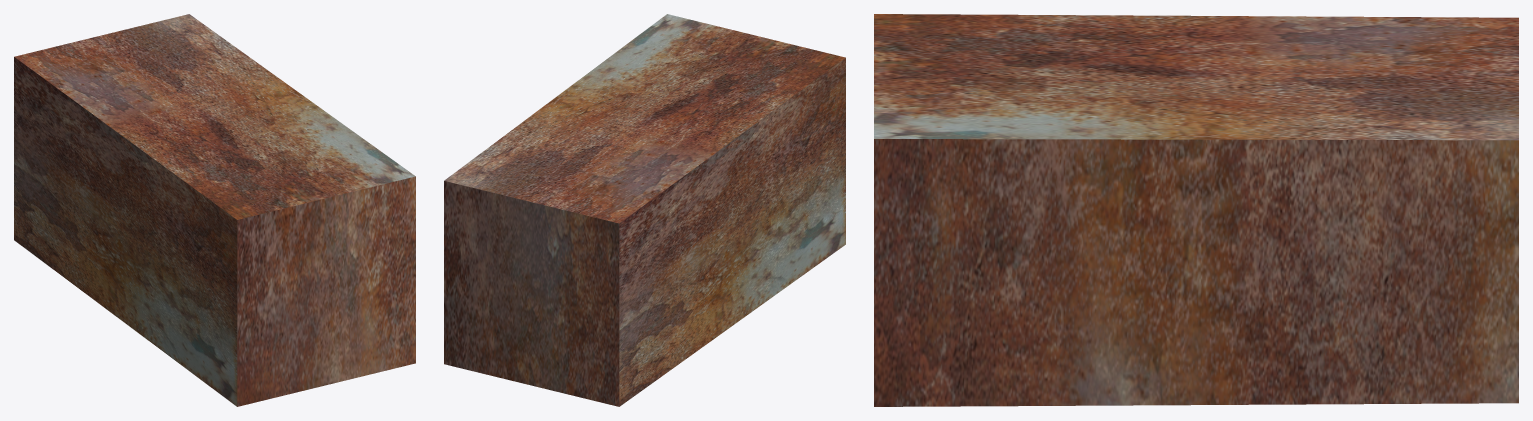
The model's file is factory Container.FBX.
3 renders of one model, left to right at view 1: azimuth 30°, elevation 25°; view 2: azimuth 150°, elevation 25°; view 3: azimuth 270°, elevation 25°, orthographic. The views are drawn at different scales.
Visible parts, largest first — view 1: Container blue; view 2: Container blue; view 3: Container blue.
Part boxes in pixels (x1,y1,x2,y2): Container blue: [14, 14, 415, 406]; Container blue: [444, 14, 845, 406]; Container blue: [874, 14, 1518, 406].
Bounding box in the file's own units: 91.74 × 91.74 × 200.
